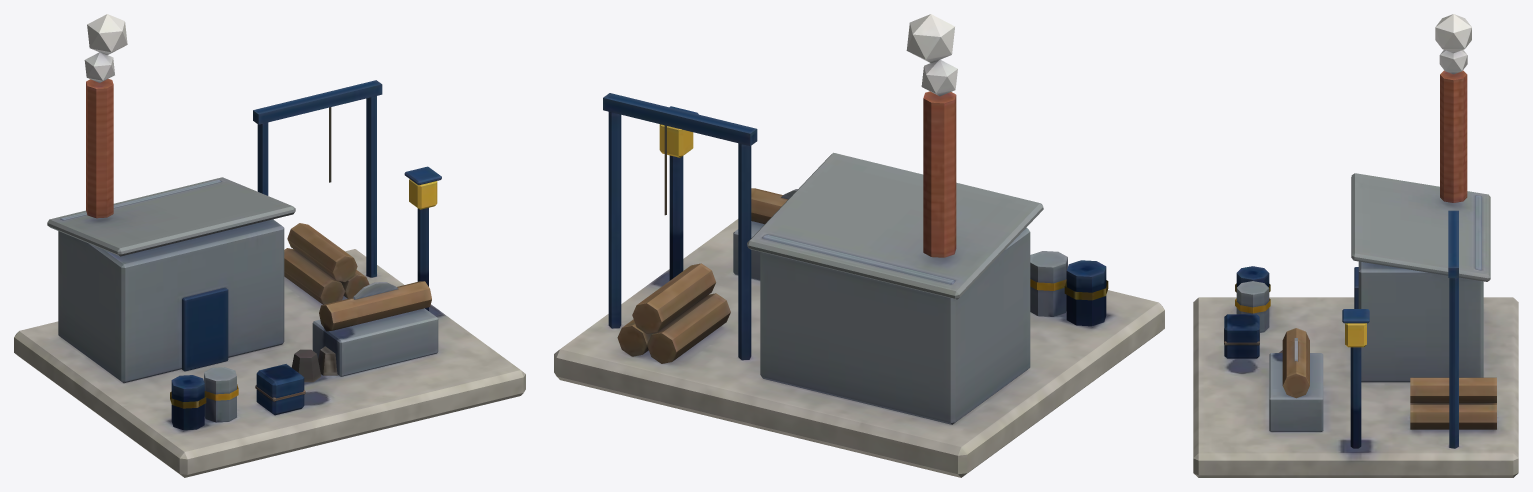
File: lumberyard-15.glb
3 renders of one model, left to right at view 1: azimuth 30°, elevation 25°; view 2: azimuth 150°, elevation 25°; view 3: azimuth 270°, elevation 25°, orthographic. The views are drawn at different scales.
Visible parts, largest first — view 1: lumberyard-15; view 2: lumberyard-15; view 3: lumberyard-15.
Boxes of the visible parts, x1,y1,x2,y2 form: lumberyard-15: (14,14,525,477); lumberyard-15: (554,14,1164,477); lumberyard-15: (1193,14,1518,477).
Bounding box in the file's own units: 1.4 × 1.36 × 1.2.
1 material, 1 textured.
